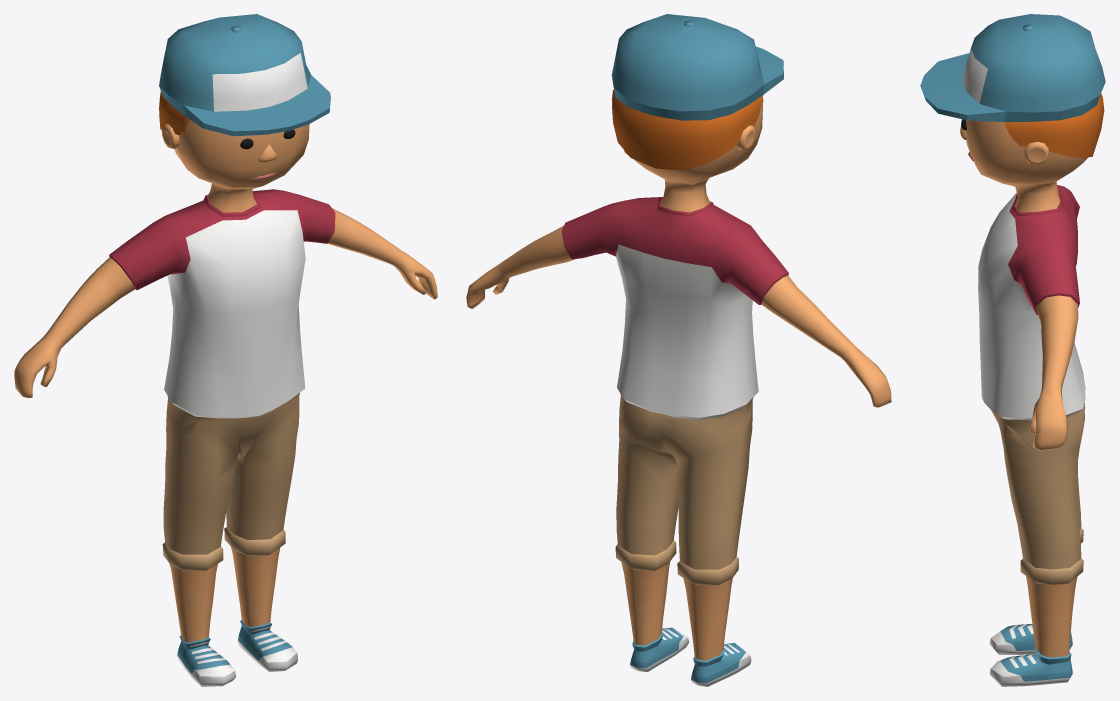
Rendered from Man 02.fbx.
The picture shows the model from 3 angles, left to right: view 1: azimuth 30°, elevation 25°; view 2: azimuth 150°, elevation 25°; view 3: azimuth 270°, elevation 25°; orthographic projection.
Parts seen in each view (by area): view 1: Man.003, Hair.007; view 2: Man.003, Hair.007; view 3: Man.003, Hair.007.
Part boxes in pixels (box(x1,y1,x2,y2)): Man.003: box(14, 120, 437, 686); Hair.007: box(159, 14, 330, 136); Man.003: box(466, 98, 891, 686); Hair.007: box(611, 14, 783, 170); Man.003: box(965, 120, 1087, 686); Hair.007: box(920, 14, 1105, 158).
Size of the model in its own units: 118 by 173 by 45.73.
